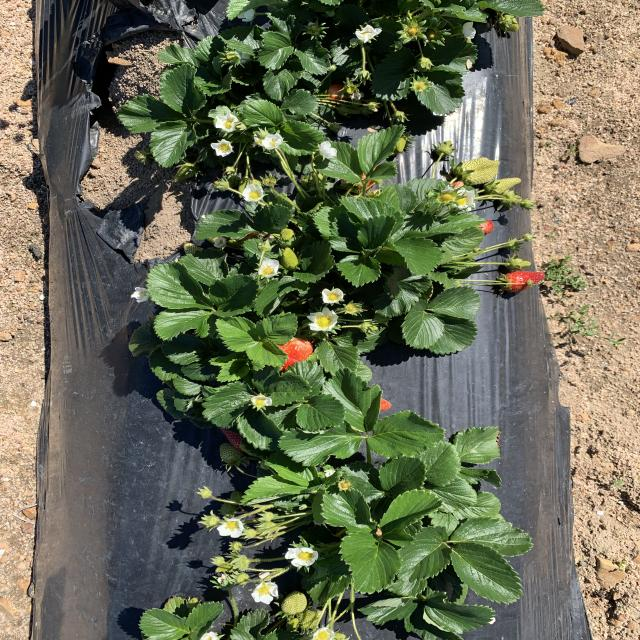unripe: (216, 408, 277, 454), (266, 334, 323, 379), (342, 148, 389, 192), (496, 268, 545, 295), (469, 218, 496, 240), (368, 397, 394, 413)
